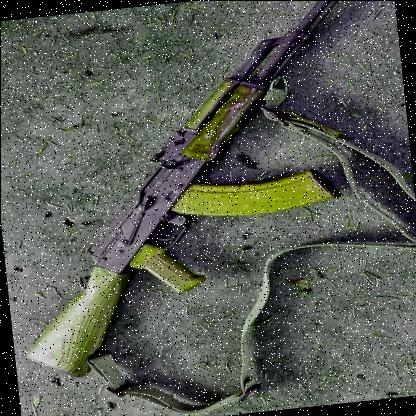rifle: (0, 0, 414, 407)
